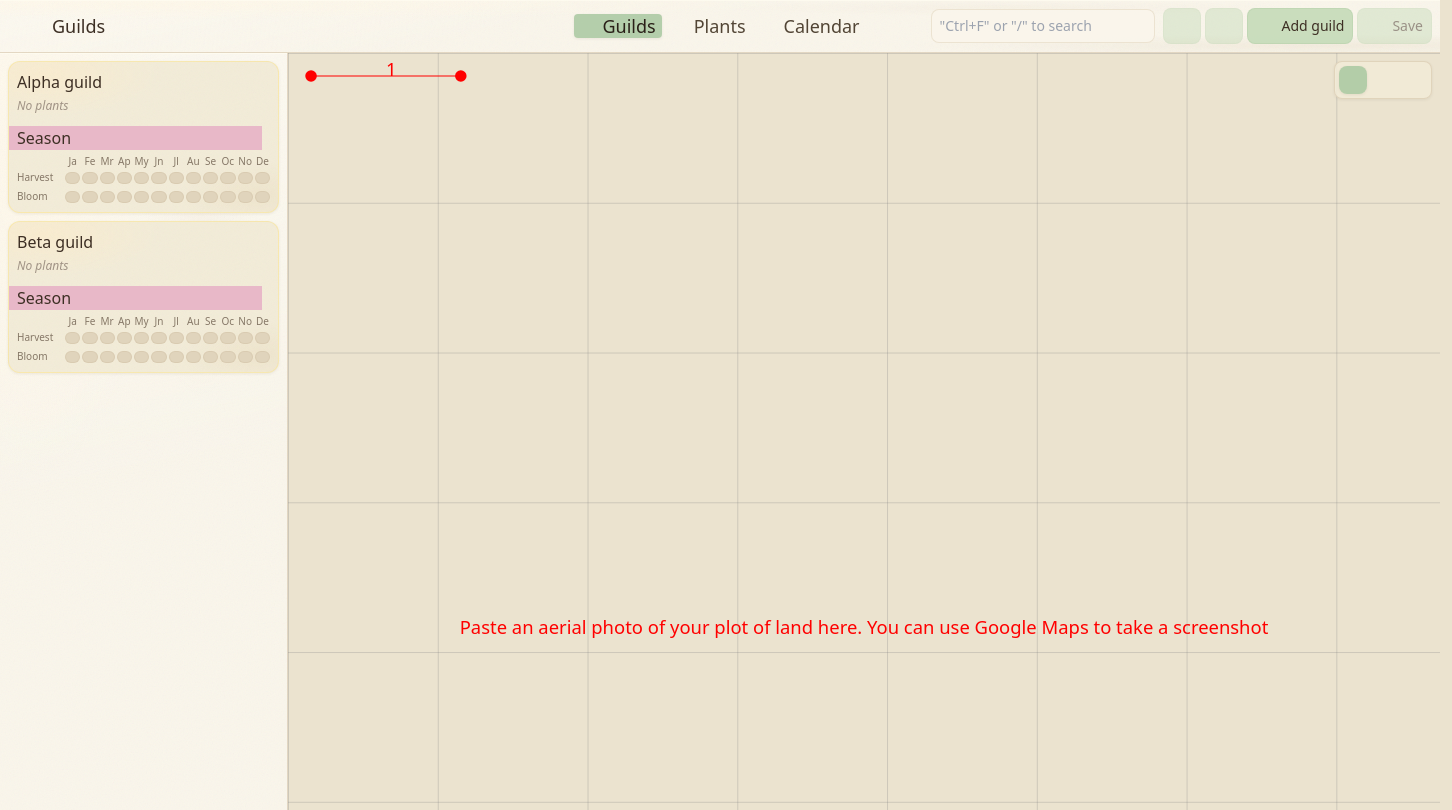
Test case: shows a message when search matches no guilds
Type "zzzz" into the search field named "Search guilds" at (1042, 26), box [930,9,1154,43]
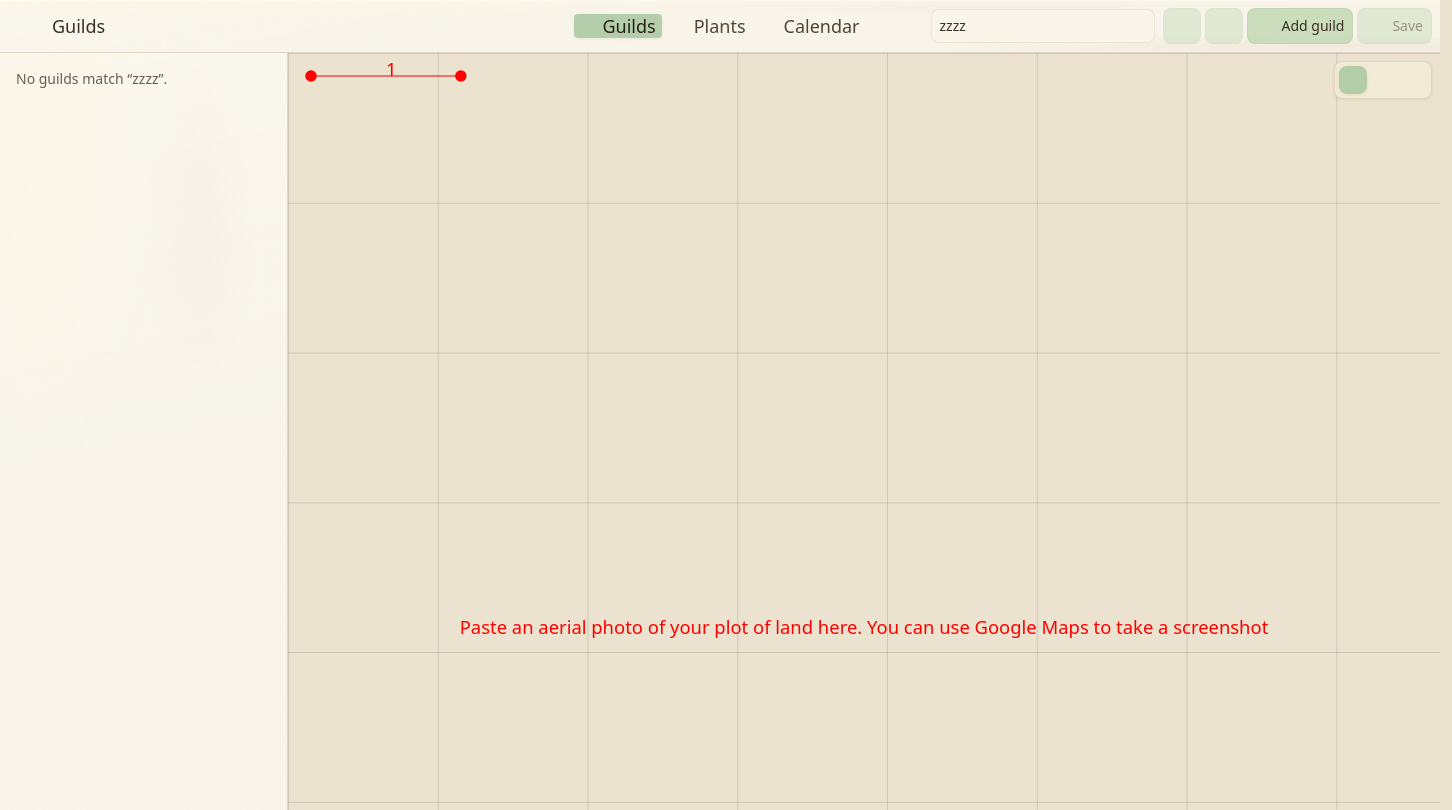
Result: the text "No guilds match “zzzz”." is shown at [16,69,167,88]
Result: the text "Alpha guild" is gone
